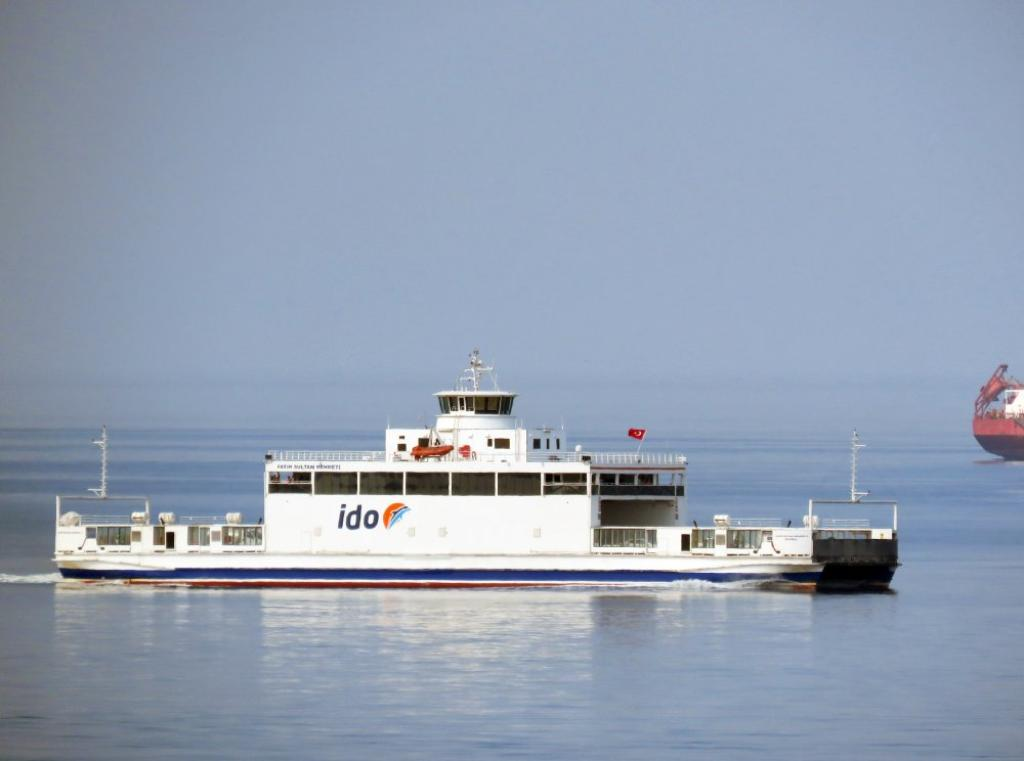PassengerShip: (46, 334, 914, 600)
